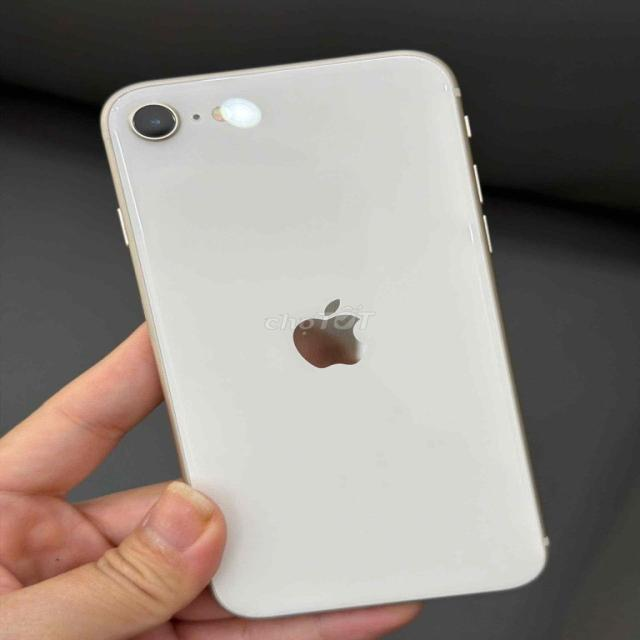scratch: (108, 131, 147, 244), (108, 95, 129, 114)
screen_defect: (213, 94, 263, 131)
